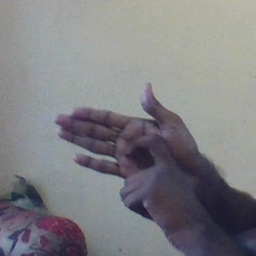R: (55, 80, 189, 214)
